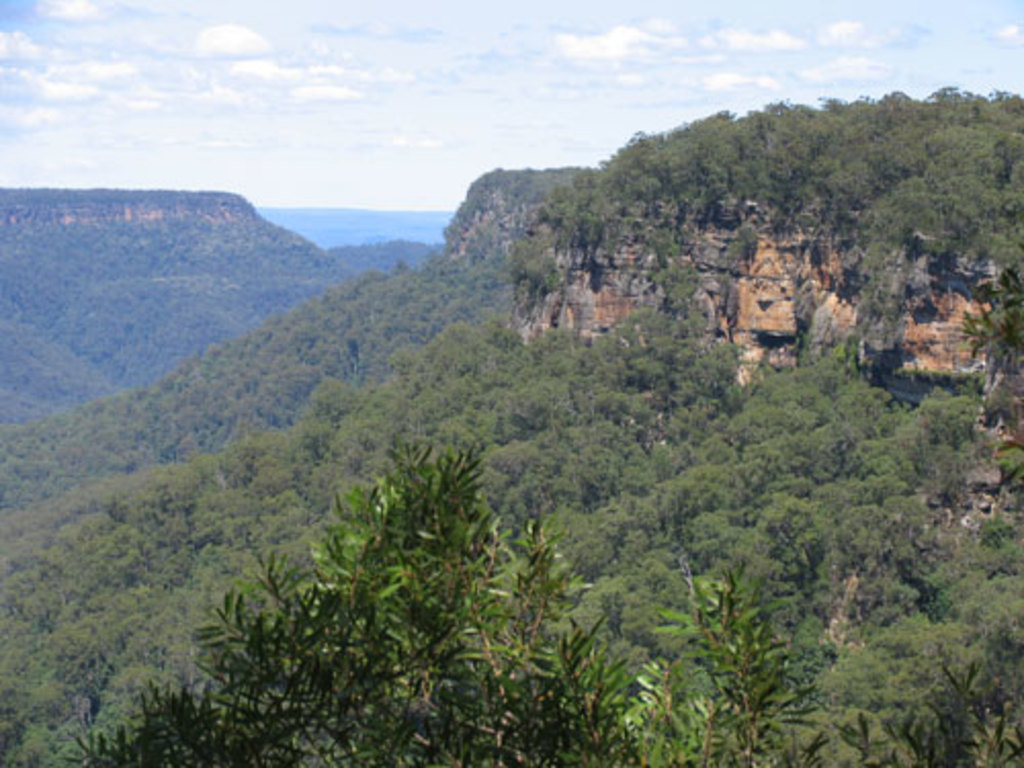Tree: (0, 86, 1023, 768)
